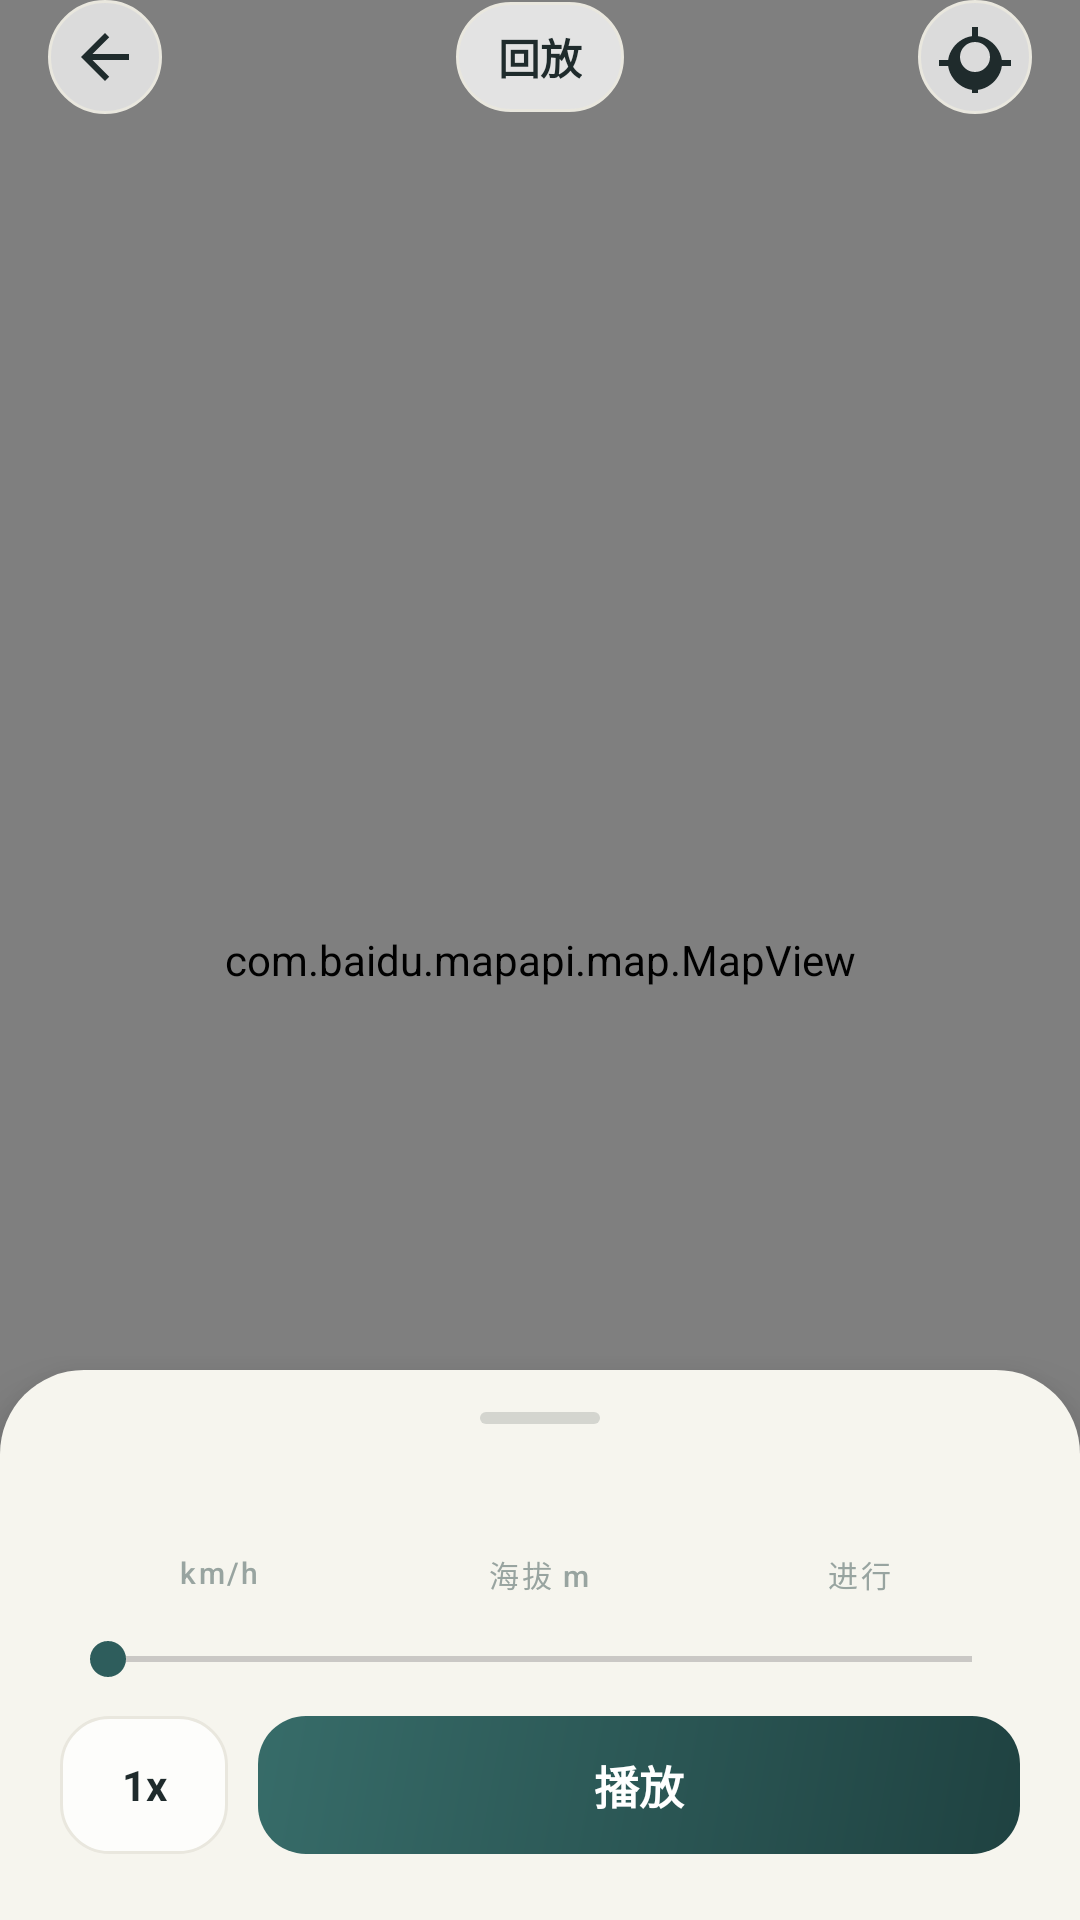

Icons on this 1080px×1920px Android screen, each with the point to tap as [x,y]:
返回: [105,57]
